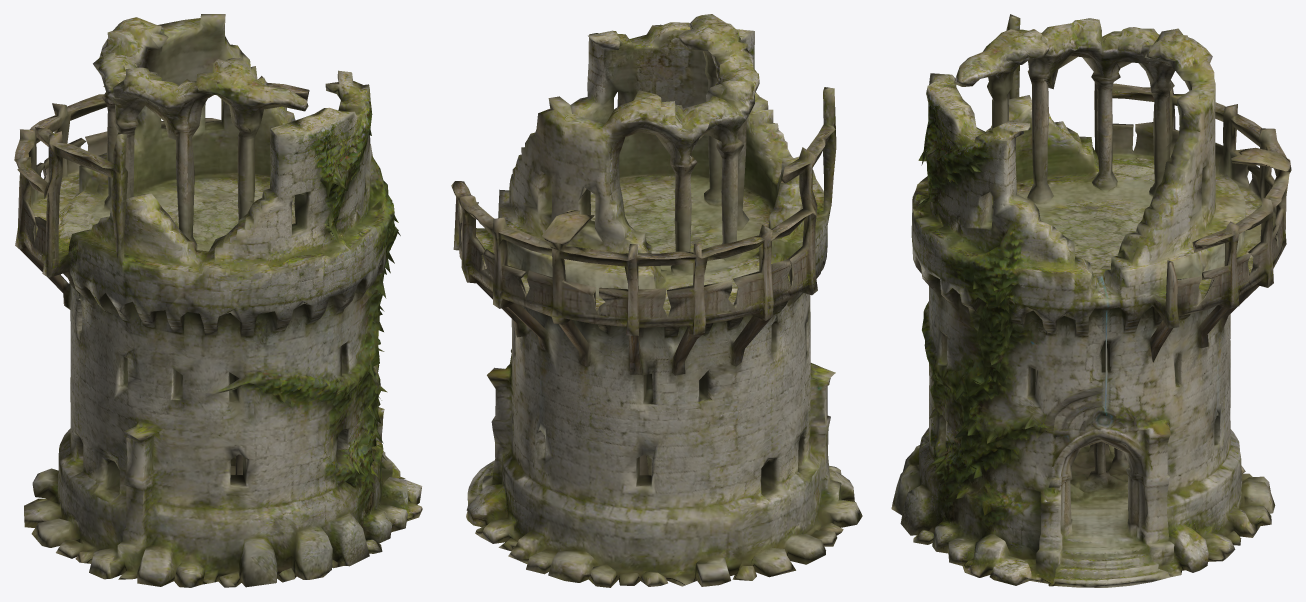
The model's file is env_tower.glb.
The picture shows the model from 3 angles, left to right: view 1: azimuth 30°, elevation 25°; view 2: azimuth 150°, elevation 25°; view 3: azimuth 270°, elevation 25°; orthographic projection.
Parts seen in each view (by area): view 1: tripo_node_1e4f8ed6-1525-4432-91a0-606e08f57408; view 2: tripo_node_1e4f8ed6-1525-4432-91a0-606e08f57408; view 3: tripo_node_1e4f8ed6-1525-4432-91a0-606e08f57408.
Boxes of the visible parts, box(x1,y1,x2,y2) form: tripo_node_1e4f8ed6-1525-4432-91a0-606e08f57408: box(14, 14, 422, 587); tripo_node_1e4f8ed6-1525-4432-91a0-606e08f57408: box(451, 14, 862, 587); tripo_node_1e4f8ed6-1525-4432-91a0-606e08f57408: box(891, 14, 1291, 587).
Size of the model in its own units: 0.7656 by 1 by 0.7844.
Materials: 1 (1 with a texture image).
